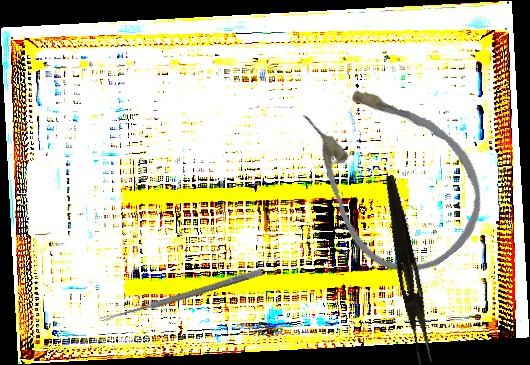Cannula: (272, 50, 511, 298)
Dressing Forceps: (375, 174, 440, 365)
Surgical Spoon: (99, 267, 263, 325)
